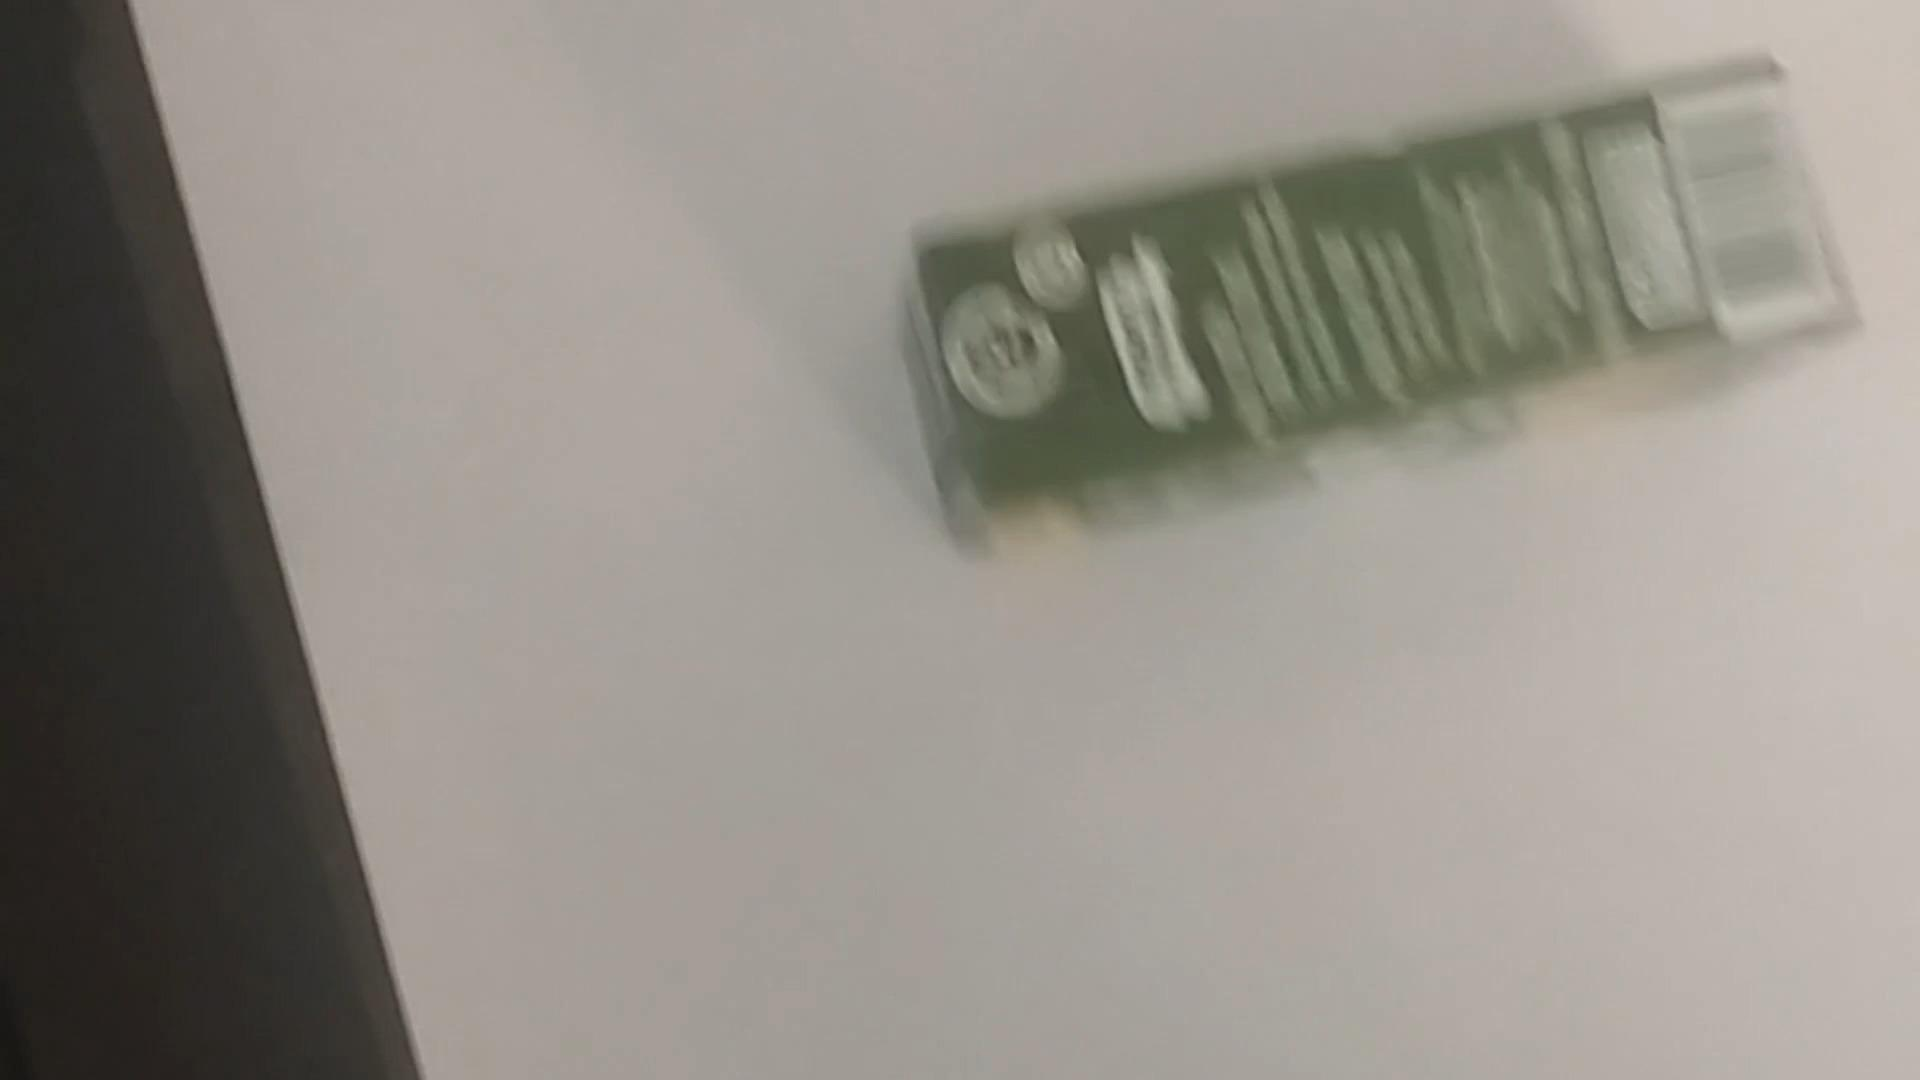coco: (923, 65, 1870, 560)
